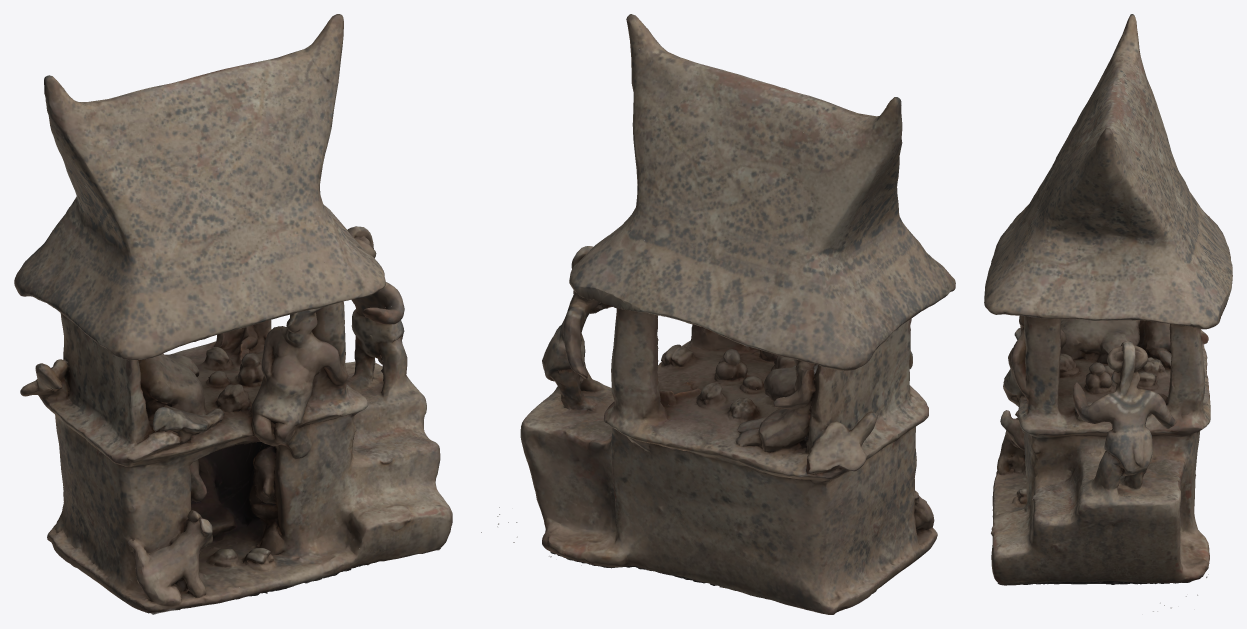
The model's file is house_model.glb.
3 renders of one model, left to right at view 1: azimuth 30°, elevation 25°; view 2: azimuth 150°, elevation 25°; view 3: azimuth 270°, elevation 25°, orthographic. The views are drawn at different scales.
Visible parts, largest first — view 1: default_n3d; view 2: default_n3d; view 3: default_n3d.
Boxes of the visible parts, <box> form: default_n3d: <box>14,14,452,614</box>; default_n3d: <box>481,14,955,614</box>; default_n3d: <box>984,14,1232,611</box>.
Bounding box in the file's own units: 0.2427 × 0.2959 × 0.1522.
Materials: 1 (1 with a texture image).
